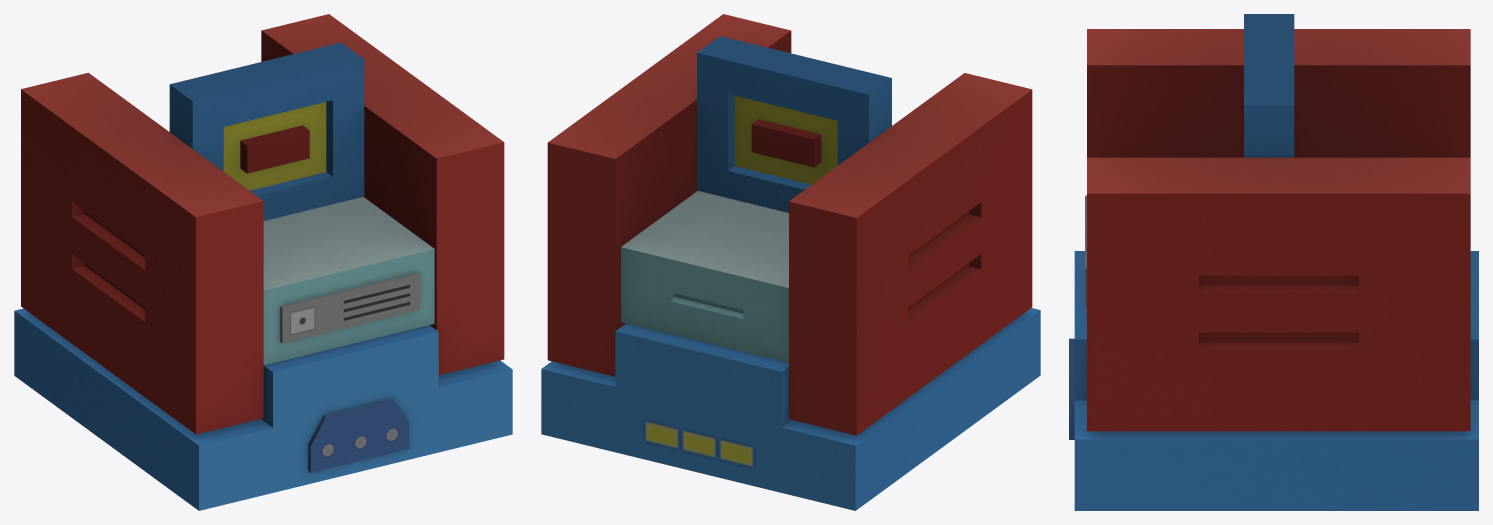
The model's file is body.glb.
3 views of the same model, side by side, from view 1: azimuth 30°, elevation 25°; view 2: azimuth 150°, elevation 25°; view 3: azimuth 270°, elevation 25° (orthographic). The views are drawn at different scales.
Parts seen in each view (by area): view 1: Robot002_mesh; view 2: Robot002_mesh; view 3: Robot002_mesh.
Boxes of the visible parts, box(x1,y1,x2,y2) form: Robot002_mesh: box(14, 14, 512, 510); Robot002_mesh: box(541, 14, 1040, 510); Robot002_mesh: box(1069, 14, 1478, 510).
Bounding box in the file's own units: 0.3578 × 0.3663 × 0.3702.
1 material, 1 textured.
